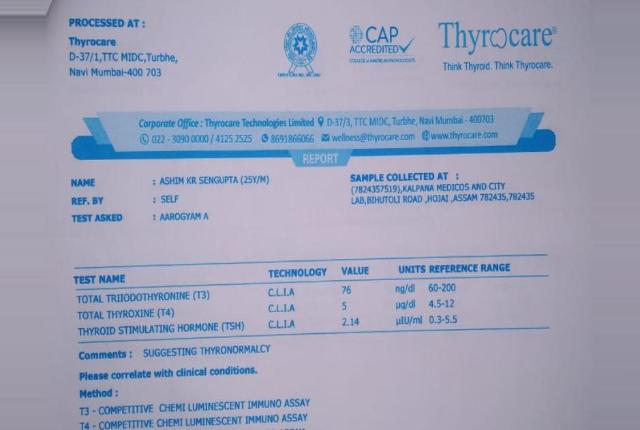Name: (159, 175, 270, 187)
Ref_By: (159, 191, 183, 206)
Reference_Range: (428, 279, 462, 328)
Technology: (264, 284, 306, 335)
Test_Asked: (158, 209, 212, 224)
Test_Name: (72, 286, 253, 340)
Unit: (392, 279, 426, 330)
Value: (337, 280, 367, 331)
